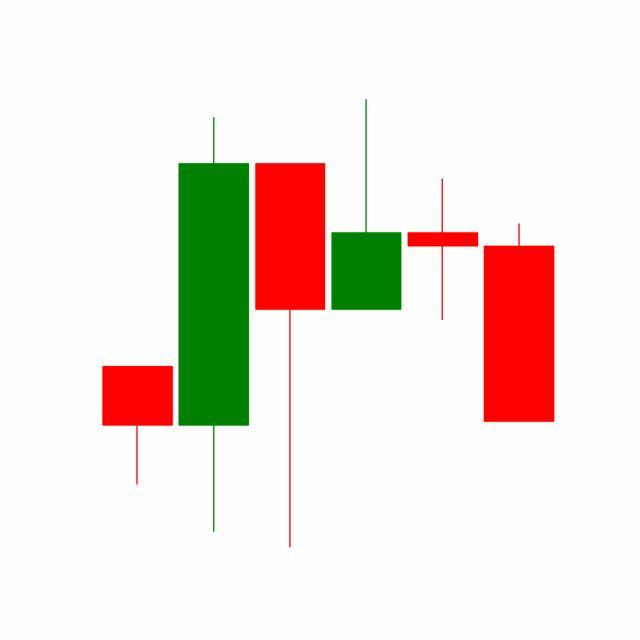Spinning Top: (404, 177, 482, 322)
